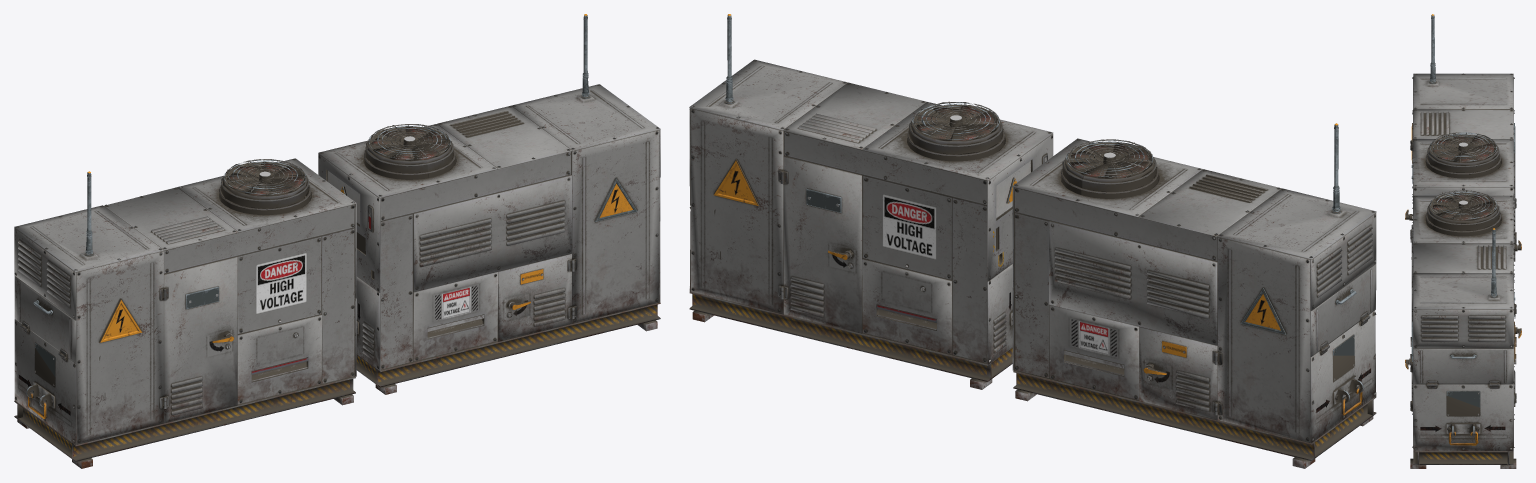
Rendered from ess-far.glb.
3 views of the same model, side by side, from view 1: azimuth 30°, elevation 25°; view 2: azimuth 150°, elevation 25°; view 3: azimuth 270°, elevation 25° (orthographic). The views are drawn at different scales.
Visible parts, largest first — view 1: object_0_1_object_0_0; view 2: object_0_1_object_0_0; view 3: object_0_1_object_0_0.
Part boxes in pixels (x1=…): object_0_1_object_0_0: x1=14, y1=14, x2=660, y2=468; object_0_1_object_0_0: x1=689, y1=14, x2=1376, y2=468; object_0_1_object_0_0: x1=1405, y1=14, x2=1521, y2=468.
Size of the model in its own units: 0.65 by 0.288 by 0.1313.
Materials: 2 (2 with a texture image).
